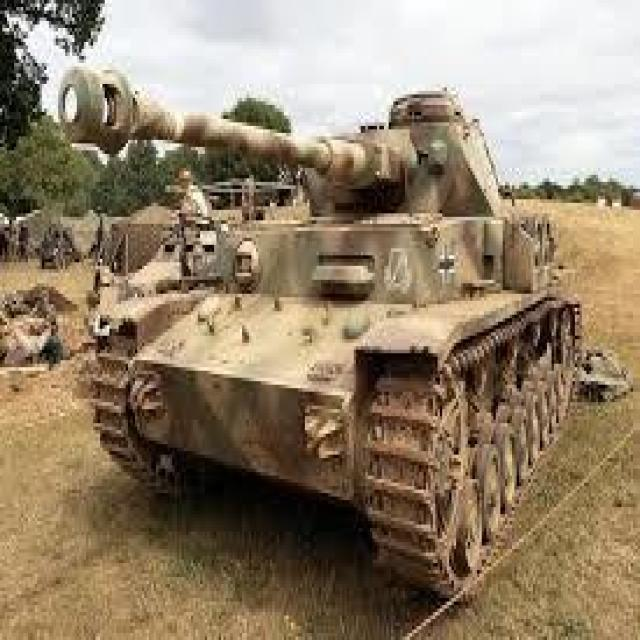Tanks: (39, 52, 602, 598)
